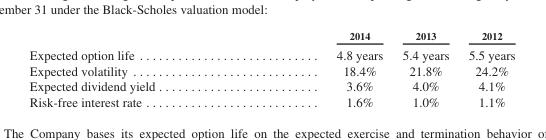table: (28, 28, 514, 108)
table column: (28, 28, 245, 108), (245, 28, 392, 108), (392, 28, 458, 108), (458, 28, 514, 108)
table column header: (28, 28, 514, 62)
table row: (28, 28, 514, 62), (28, 62, 514, 78), (28, 78, 514, 93), (28, 93, 514, 108)
